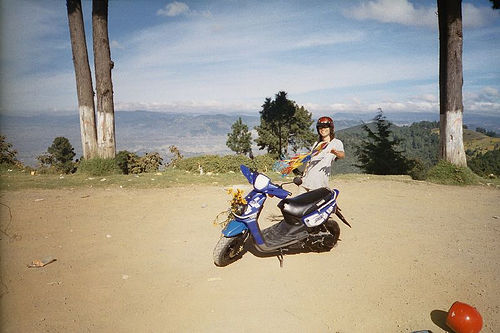without_mask: (316, 123, 336, 142)
